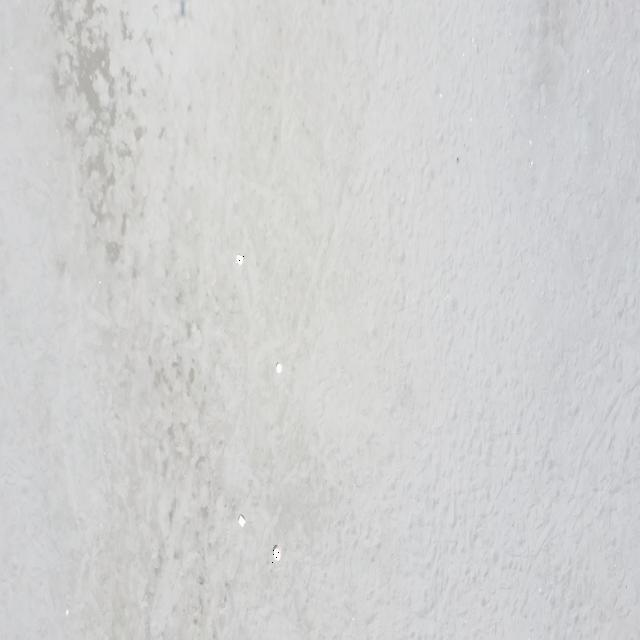take-away-containers: (272, 543, 282, 563), (236, 253, 244, 267), (238, 514, 246, 528), (276, 360, 283, 375)
